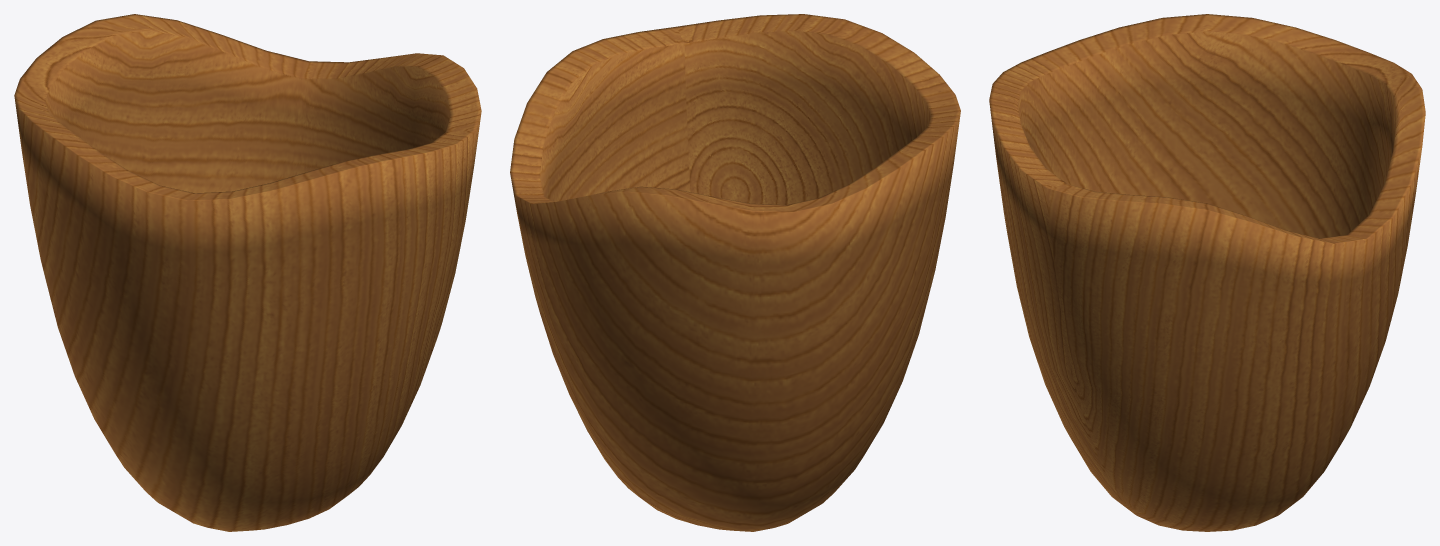
The model's file is Tazon.fbx.
3 renders of one model, left to right at view 1: azimuth 30°, elevation 25°; view 2: azimuth 150°, elevation 25°; view 3: azimuth 270°, elevation 25°, orthographic. The views are drawn at different scales.
Parts seen in each view (by area): view 1: Cube; view 2: Cube; view 3: Cube.
Boxes of the visible parts, x1,y1,x2,y2 form: Cube: [14, 14, 481, 531]; Cube: [510, 14, 960, 531]; Cube: [989, 14, 1425, 531].
Size of the model in its own units: 234 by 245 by 235.
